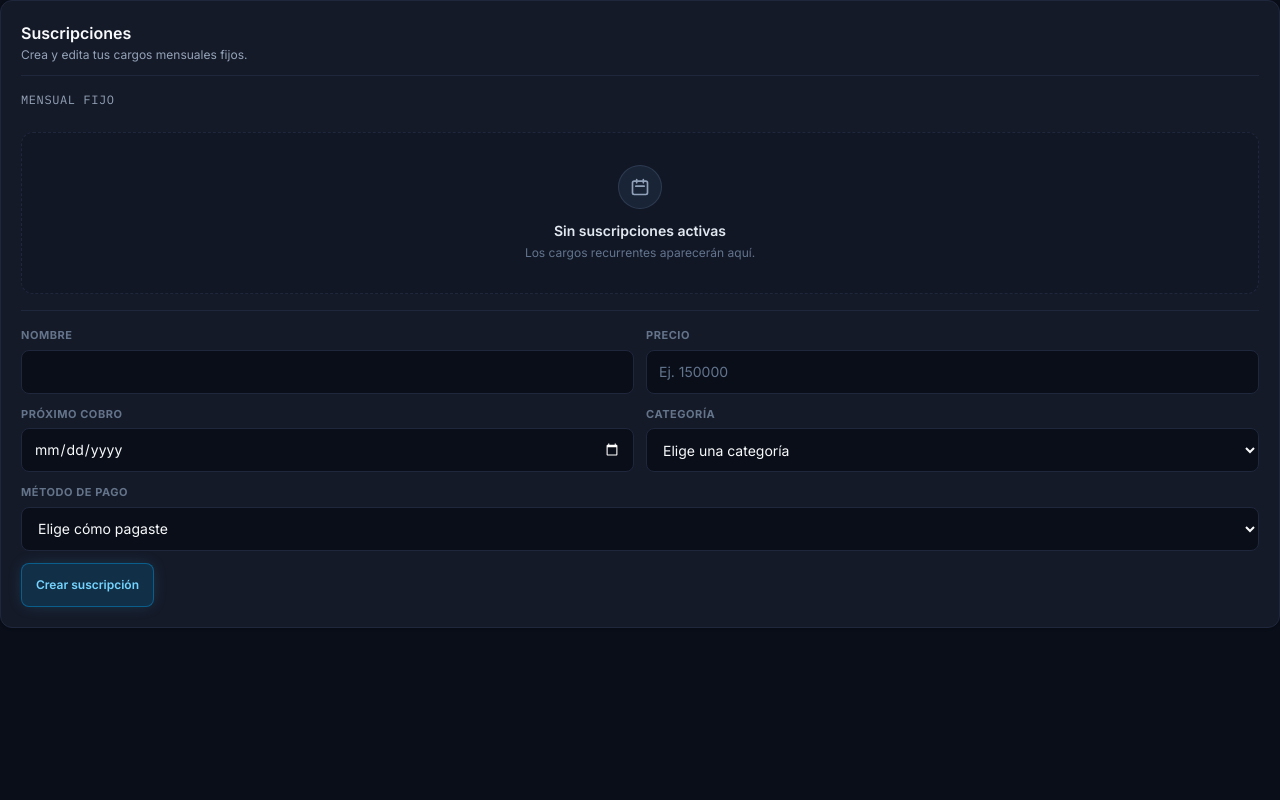
Test case: SubscriptionsSection › requires the monthly due date with a Spanish error and sends no request
Expected: the form "Crear suscripción" is shown, [21,327,1259,606]
Type "Streaming" into the field labelled "Nombre". click: {"x": 328, "y": 372}
box: [21,350,634,394]
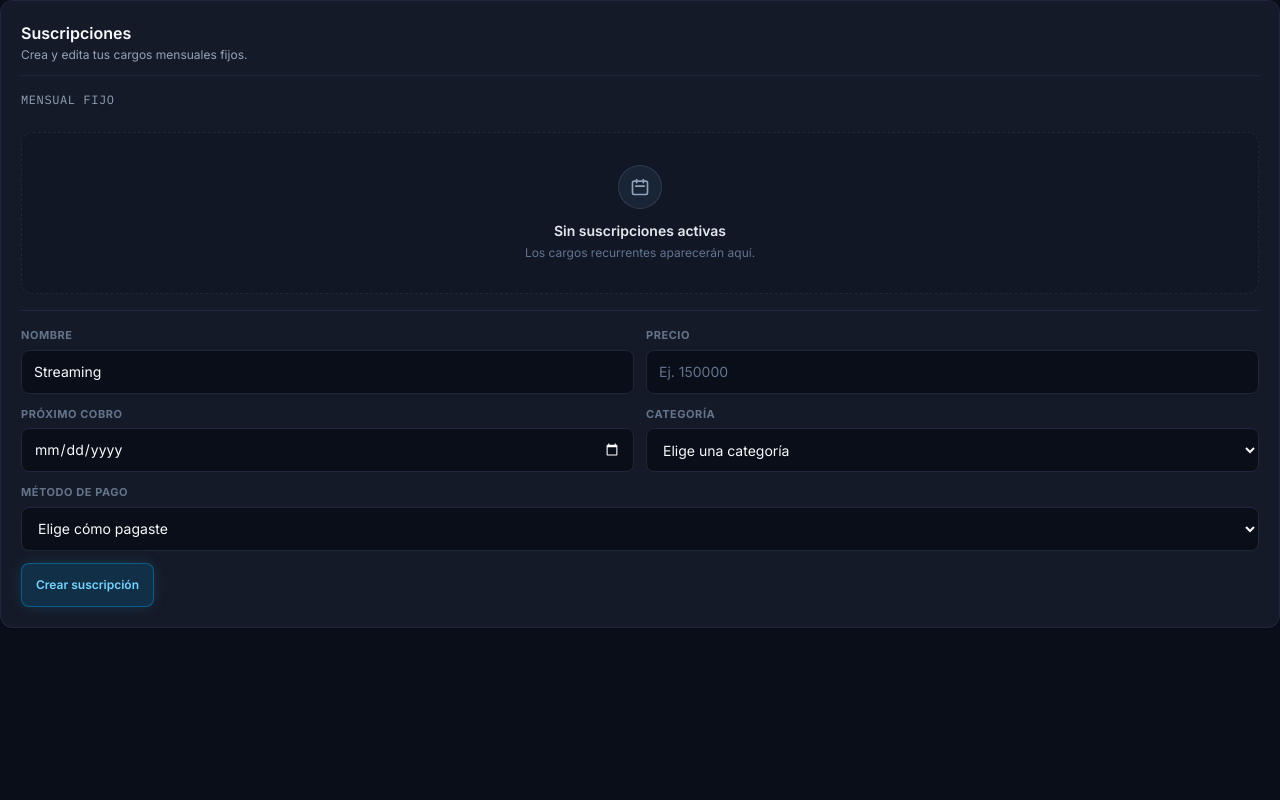
Type "19900" into the field labelled "Precio". click: {"x": 952, "y": 372}
box: [646,350,1259,394]
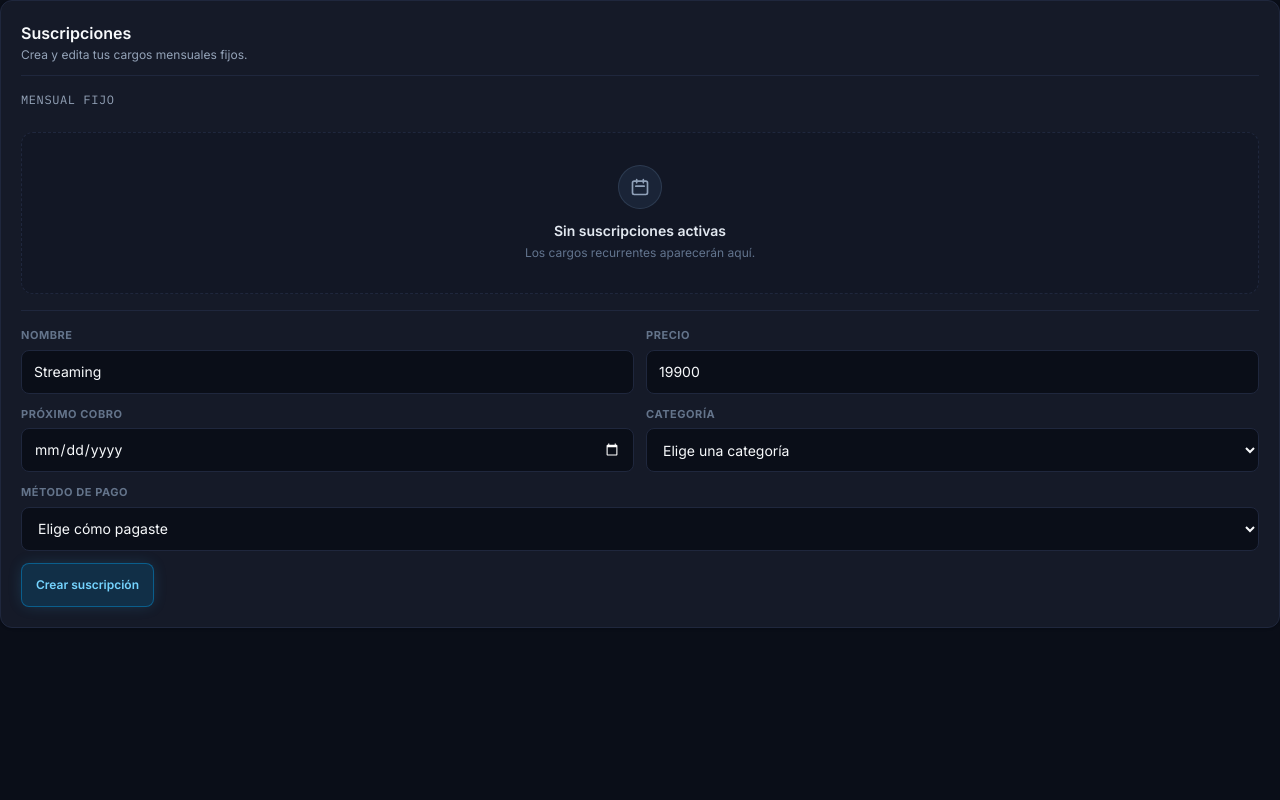
Click the button "Crear suscripción". click: {"x": 88, "y": 584}
box: [21,562,154,606]
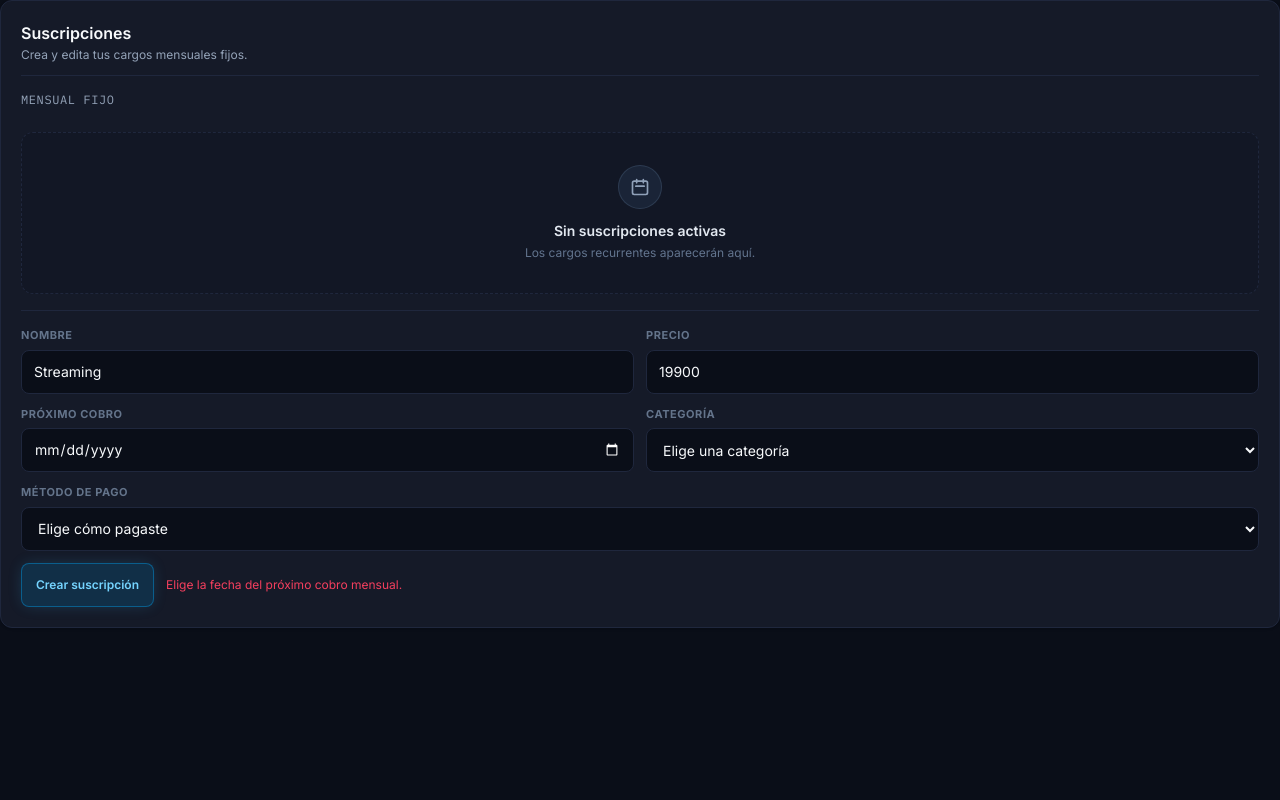
Expected: the message "Elige la fecha del próximo cobro mensual." is shown, [166,576,402,592]
